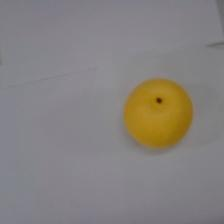yellow: (122, 77, 193, 149)
